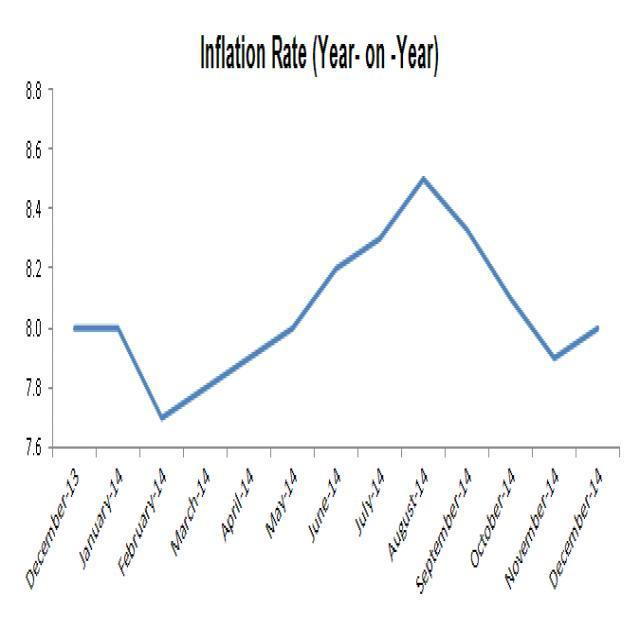axis: (44, 442, 629, 460), (42, 70, 61, 465)
line: (71, 170, 603, 423)
